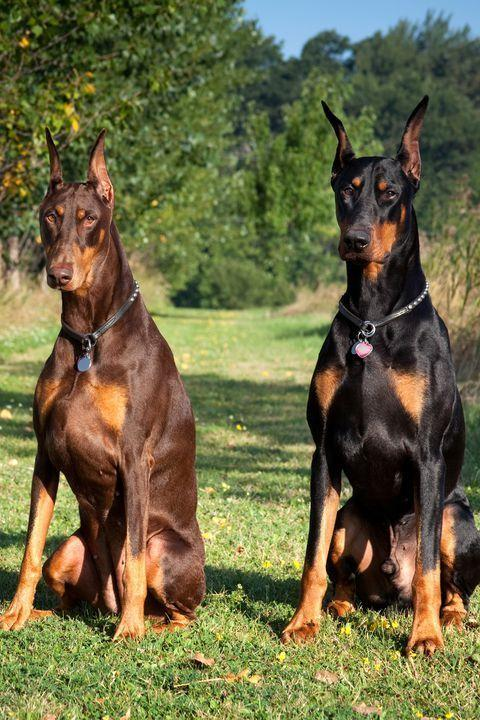dog: (283, 97, 479, 654), (0, 130, 204, 638)
